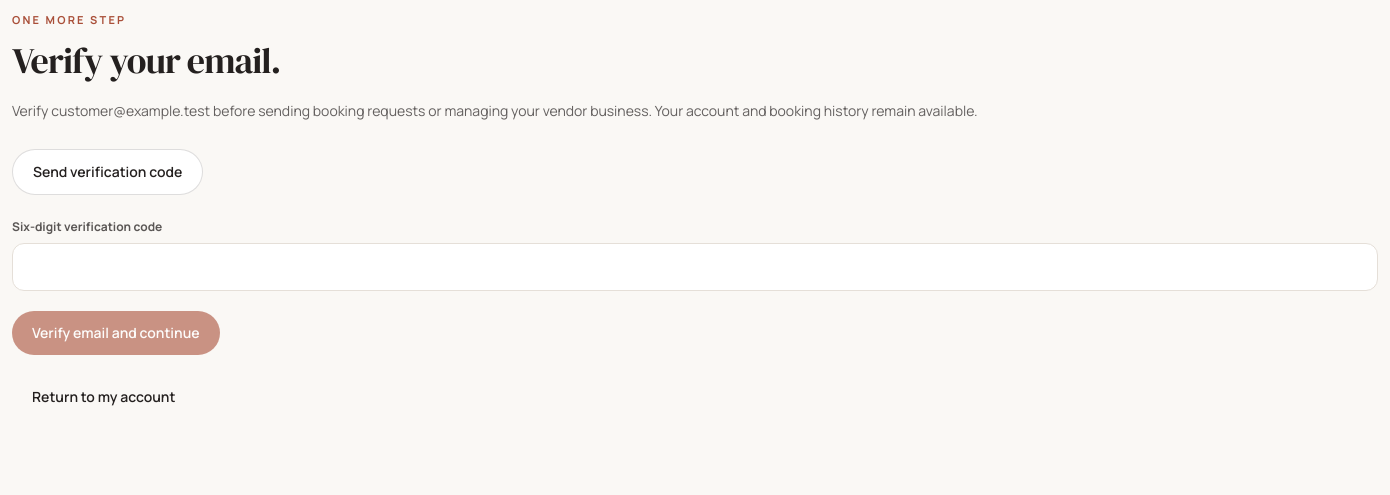
Test: initial email verification › shows resend limits and blocks duplicate sends while pending
The image size is (1390, 495).
Click the button "Send verification code" at (108, 172), box x1=12 y1=148 x2=203 y2=194
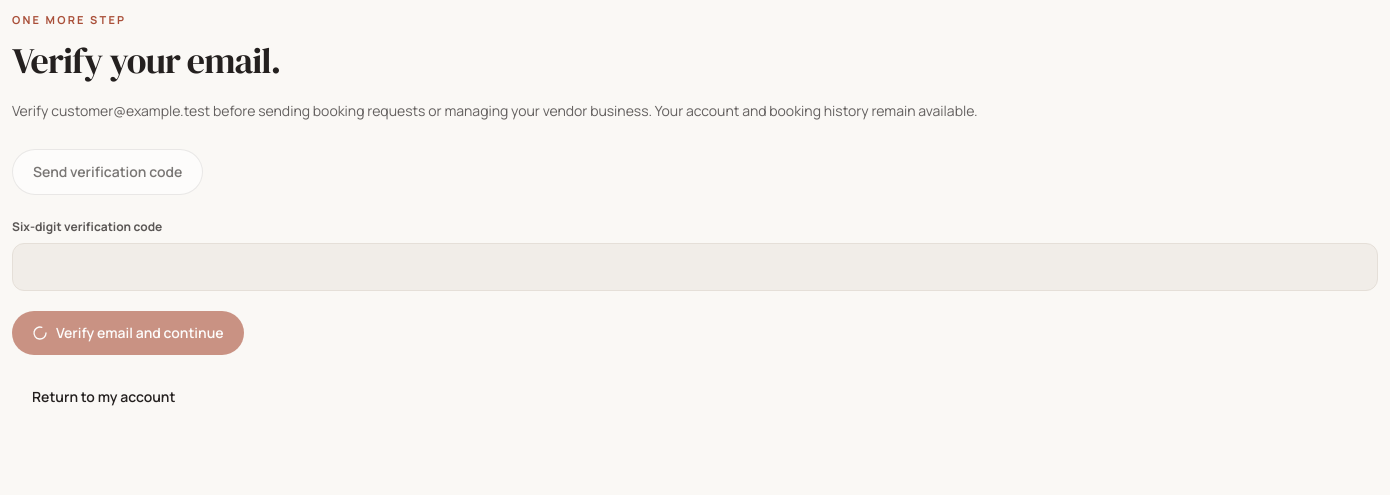
Click the button "Send verification code" at (108, 172), box x1=12 y1=148 x2=203 y2=194
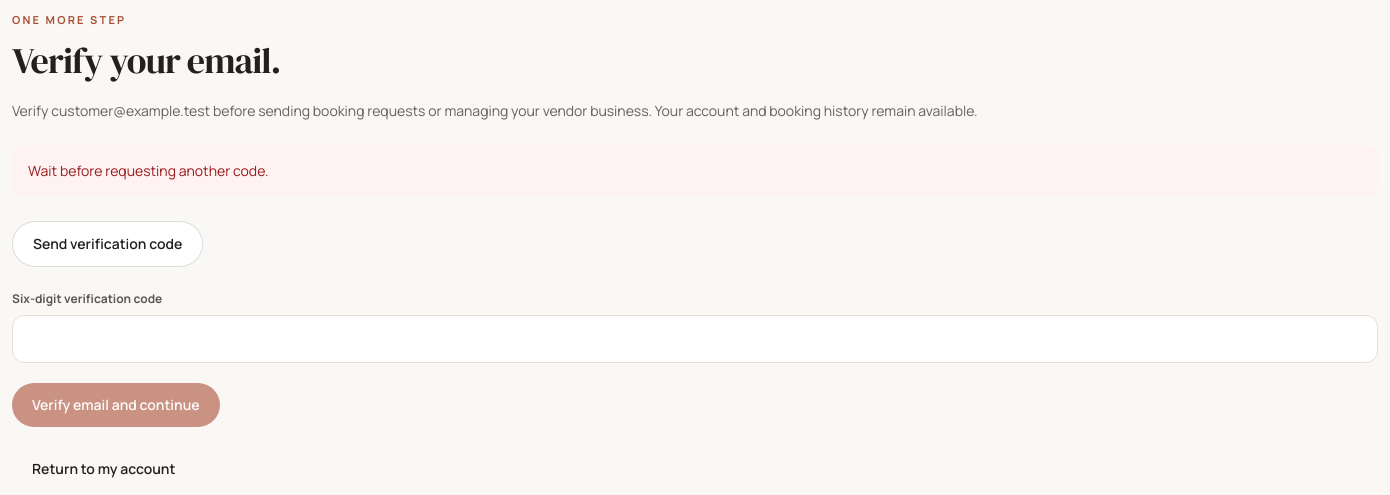
Now the message reads "Wait before requesting another code.", box x1=28 y1=160 x2=269 y2=180
